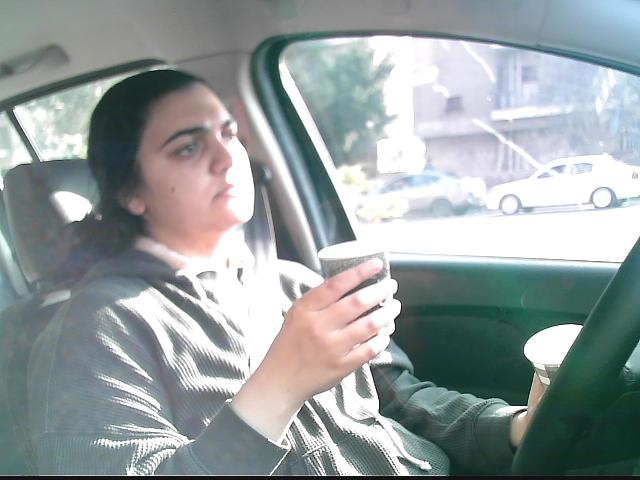Drinking: (313, 236, 403, 366), (518, 318, 600, 415)
